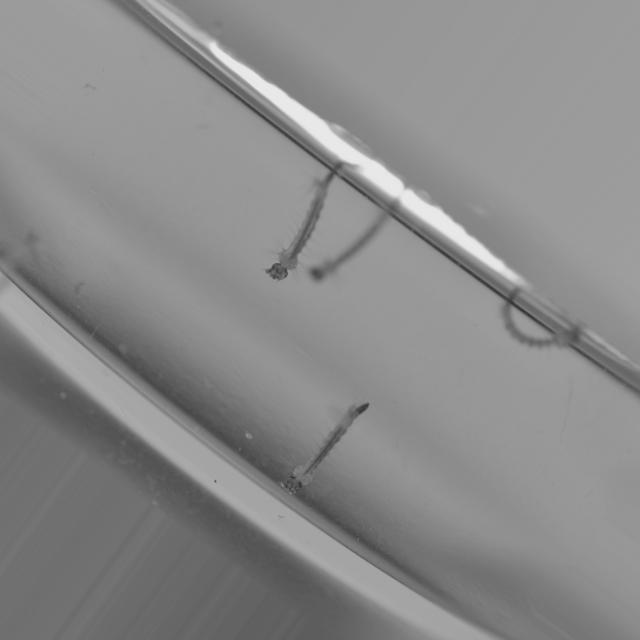larvas: (263, 158, 349, 295), (311, 190, 404, 290), (281, 406, 371, 496), (502, 291, 578, 356)
